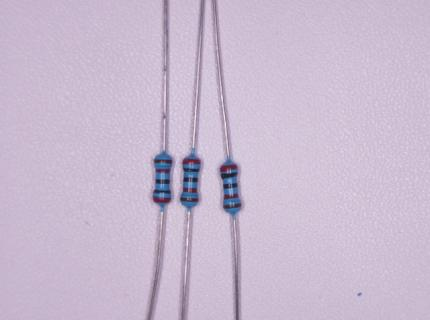Black band: (221, 172, 237, 180), (183, 167, 200, 173), (152, 189, 171, 194), (223, 183, 238, 189), (183, 177, 198, 182), (155, 179, 169, 184)
Brown band: (223, 203, 242, 210), (154, 158, 172, 163), (180, 197, 198, 202)
Red band: (220, 164, 239, 172), (152, 196, 171, 203), (182, 158, 201, 165), (224, 193, 239, 200), (183, 187, 198, 192), (155, 168, 170, 173)
